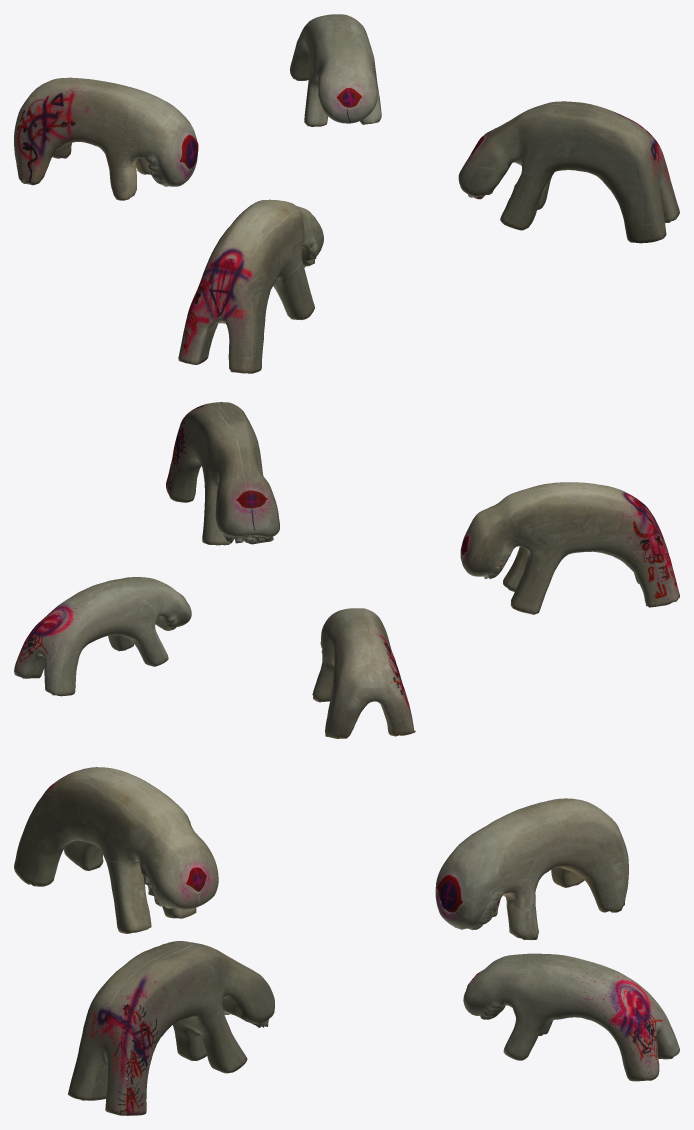
The model's file is somaTieren_sebasRg.glb.
3 renders of one model, top to bottom at view 1: azimuth 30°, elevation 25°; view 2: azimuth 150°, elevation 25°; view 3: azimuth 270°, elevation 25°, orthographic. The views are drawn at different scales.
Parts seen in each view (by area): view 1: Retopo_baer_gross_3_Farbe1_fertig.001, Retopo_baer_mittel_2_Farbe_fertig.001, Retopo_baer_gross_4_Farbe_fertig.000, Retopo_baer_klein_1_Farbe_fertig.001; view 2: Retopo_baer_gross_4_Farbe_fertig.000, Retopo_baer_klein_1_Farbe_fertig.001, Retopo_baer_gross_3_Farbe1_fertig.001, Retopo_baer_mittel_2_Farbe_fertig.001; view 3: Retopo_baer_gross_3_Farbe1_fertig.001, Retopo_baer_gross_4_Farbe_fertig.000, Retopo_baer_mittel_2_Farbe_fertig.001, Retopo_baer_klein_1_Farbe_fertig.001.
Part boxes in pixels (x1,y1,x2,y2): Retopo_baer_gross_3_Farbe1_fertig.001: (458, 101, 679, 243); Retopo_baer_mittel_2_Farbe_fertig.001: (14, 77, 198, 200); Retopo_baer_gross_4_Farbe_fertig.000: (178, 199, 323, 373); Retopo_baer_klein_1_Farbe_fertig.001: (289, 14, 381, 126); Retopo_baer_gross_4_Farbe_fertig.000: (460, 482, 679, 614); Retopo_baer_klein_1_Farbe_fertig.001: (14, 577, 191, 696); Retopo_baer_gross_3_Farbe1_fertig.001: (166, 402, 279, 545); Retopo_baer_mittel_2_Farbe_fertig.001: (312, 608, 415, 738); Retopo_baer_gross_3_Farbe1_fertig.001: (68, 941, 274, 1115); Retopo_baer_gross_4_Farbe_fertig.000: (14, 767, 218, 933); Retopo_baer_mittel_2_Farbe_fertig.001: (435, 798, 628, 940); Retopo_baer_klein_1_Farbe_fertig.001: (463, 953, 679, 1081).
Bounding box in the file's own units: 234 × 54.18 × 235.
4 materials, 4 textured.
